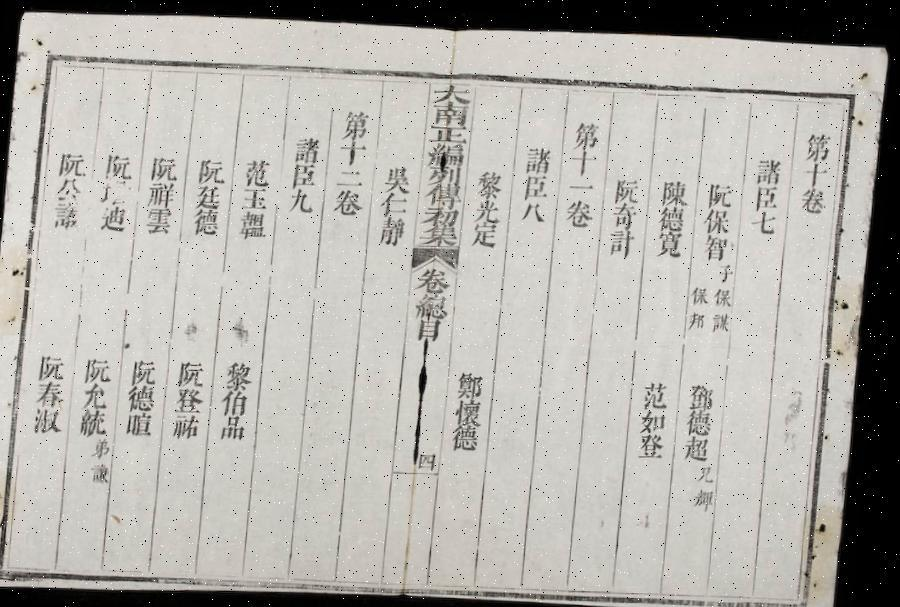c: (426, 139, 468, 168), (418, 263, 457, 293), (340, 105, 374, 139), (332, 185, 368, 216), (803, 125, 836, 158), (378, 212, 412, 244), (242, 154, 276, 186), (238, 208, 273, 239), (426, 179, 466, 206), (431, 78, 474, 103), (431, 99, 472, 125), (644, 374, 677, 406), (228, 357, 261, 389), (566, 194, 600, 225), (524, 140, 558, 171), (34, 405, 70, 434), (416, 291, 454, 318), (572, 115, 604, 147), (608, 224, 640, 256), (383, 161, 416, 192), (52, 200, 86, 230), (82, 406, 116, 436), (103, 150, 137, 180), (175, 411, 210, 440), (179, 357, 214, 386), (87, 352, 120, 382), (660, 173, 693, 203), (197, 154, 230, 184), (40, 351, 74, 380), (57, 148, 91, 177), (38, 378, 72, 407), (132, 355, 166, 384), (130, 382, 164, 411), (422, 221, 464, 244), (657, 226, 689, 256), (461, 366, 493, 396), (455, 421, 488, 450), (150, 152, 183, 181), (178, 385, 212, 413), (423, 204, 464, 227), (477, 166, 508, 196), (294, 132, 325, 162), (641, 428, 673, 457), (522, 169, 554, 198), (146, 205, 178, 234), (706, 176, 738, 205), (338, 137, 371, 165), (458, 396, 491, 424), (128, 409, 162, 436), (614, 170, 644, 200), (692, 376, 722, 406), (225, 386, 256, 415), (472, 219, 504, 247), (570, 145, 602, 173), (800, 182, 832, 210), (84, 380, 116, 408), (752, 179, 784, 207), (689, 404, 721, 432), (193, 207, 225, 235), (148, 179, 180, 207), (704, 203, 736, 231), (222, 412, 255, 439), (658, 201, 691, 228), (291, 159, 322, 187), (751, 205, 783, 232), (100, 204, 132, 231), (687, 431, 719, 458), (756, 152, 786, 180), (612, 198, 642, 226), (196, 182, 227, 209), (381, 190, 413, 216), (429, 121, 470, 141), (802, 156, 832, 183), (643, 405, 674, 431), (475, 195, 506, 221), (243, 184, 274, 210), (102, 178, 132, 204), (288, 186, 318, 212), (704, 231, 734, 257), (55, 176, 86, 201), (336, 163, 368, 187), (428, 163, 466, 183), (418, 316, 448, 341), (521, 197, 551, 222), (568, 175, 600, 193), (698, 483, 722, 506), (95, 461, 118, 483), (96, 436, 118, 458), (714, 307, 736, 329), (716, 282, 738, 303), (691, 306, 712, 327), (694, 281, 715, 302), (718, 258, 738, 279), (702, 460, 722, 480), (424, 447, 444, 466)
